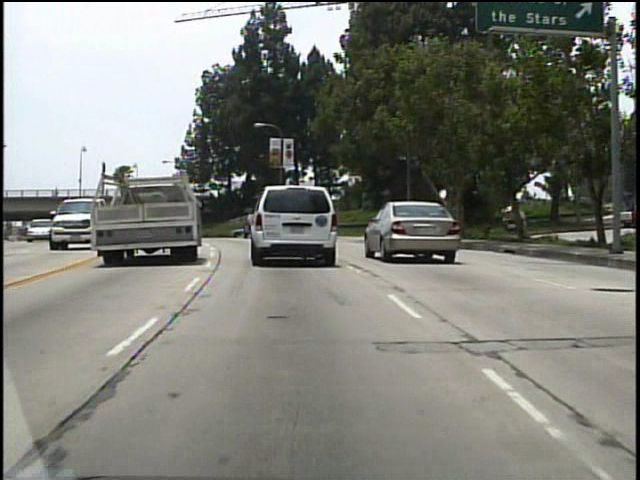person: (51, 184, 61, 204)
